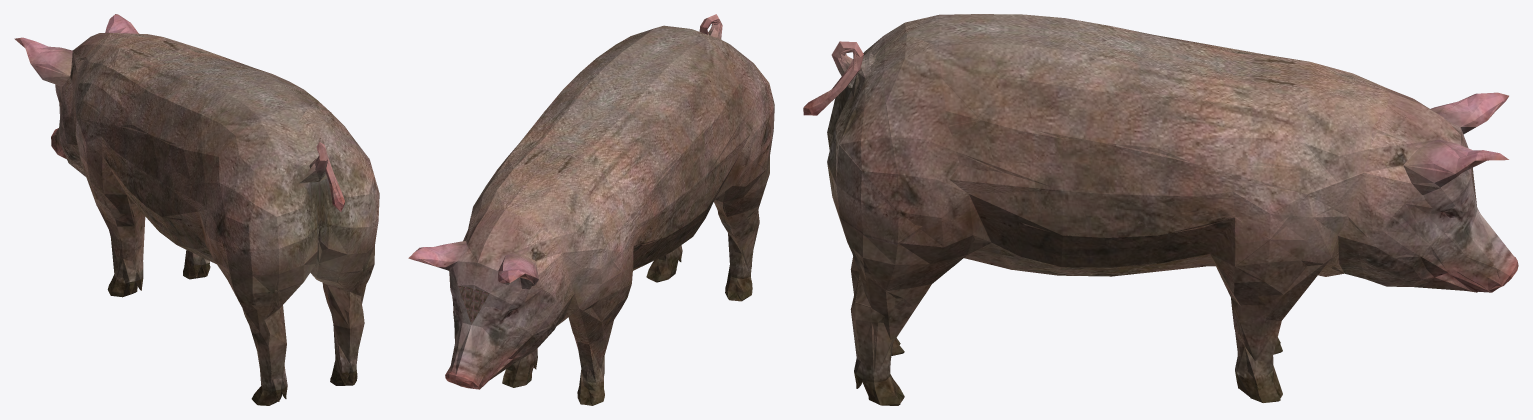
File: pig.gltf
3 renders of one model, left to right at view 1: azimuth 30°, elevation 25°; view 2: azimuth 150°, elevation 25°; view 3: azimuth 270°, elevation 25°, orthographic. The views are drawn at different scales.
Parts seen in each view (by area): view 1: Pig1; view 2: Pig1; view 3: Pig1.
Part boxes in pixels (left/top/right/bottom): Pig1: left=14, top=14, right=379, bottom=405; Pig1: left=408, top=14, right=774, bottom=405; Pig1: left=803, top=14, right=1518, bottom=405.
Bounding box in the file's own units: 0.3576 × 0.5983 × 1.11.
Materials: 1 (1 with a texture image).
